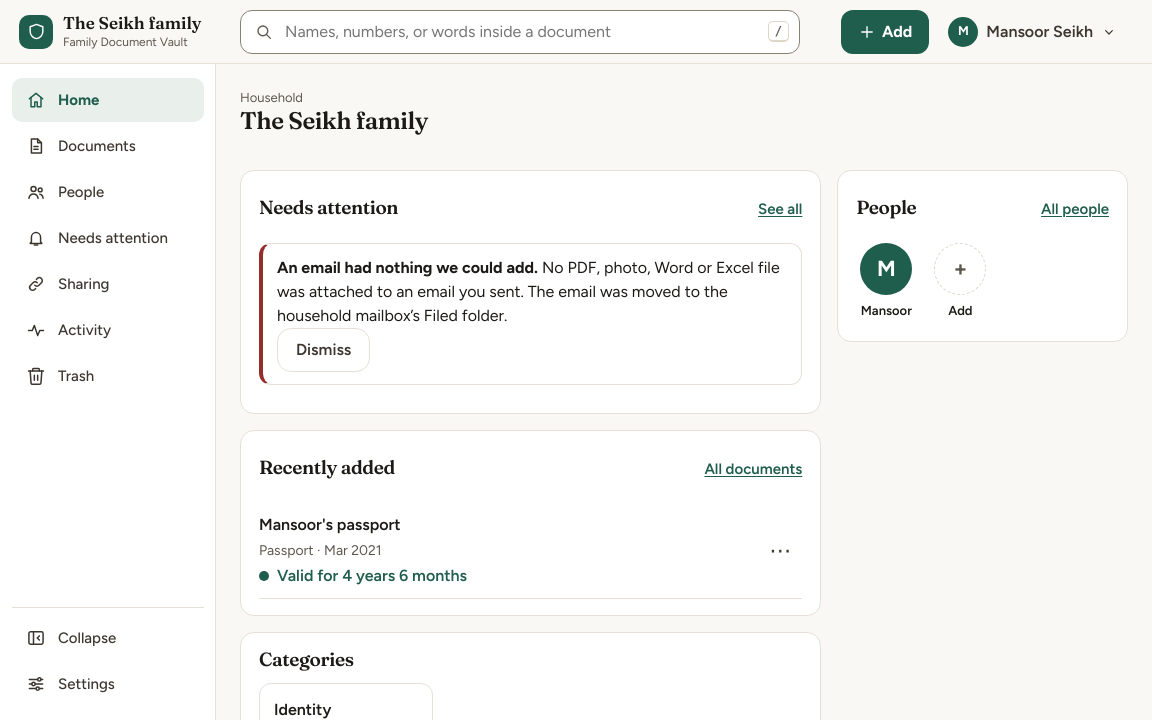
Test: where to email documents, on Add and Home (S4) › an email’s note is in Needs attention, with Dismiss
Check: the text "An email had nothing we could add." is shown, box [277,258,538,277]
Click the button with aria-label "Dismiss the note about an email" at coordinates (324, 350), box [277,328,370,372]
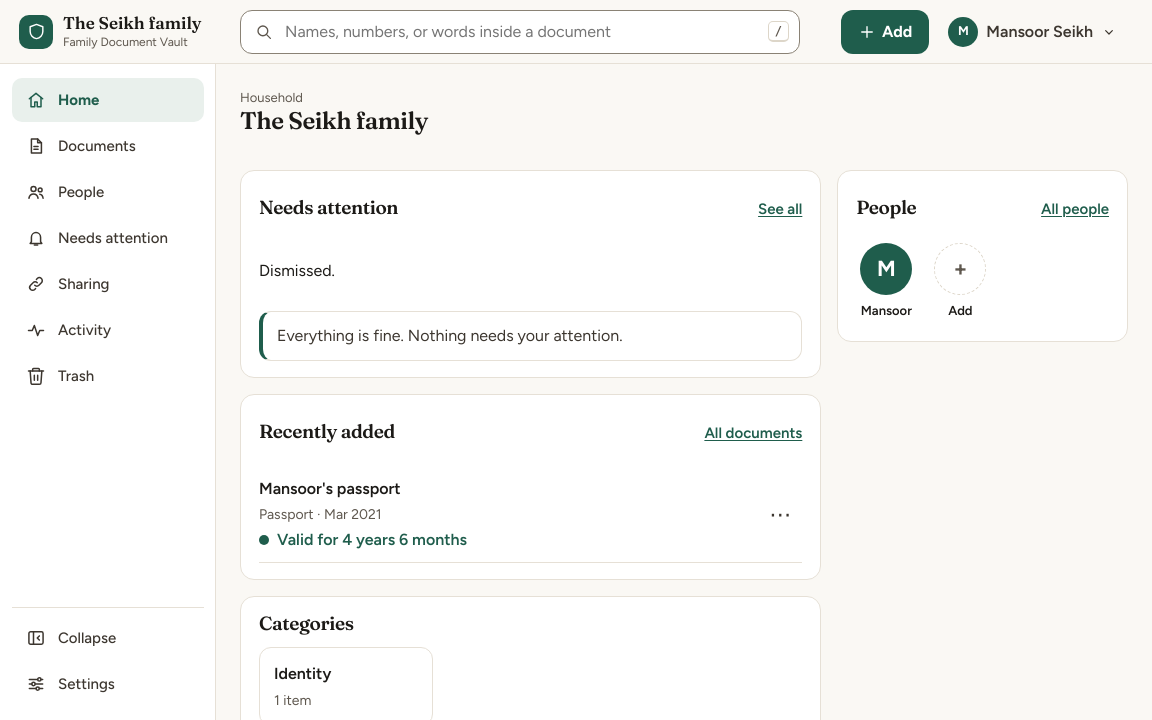
Check: the text "Dismissed." is shown, box [259,261,335,280]
